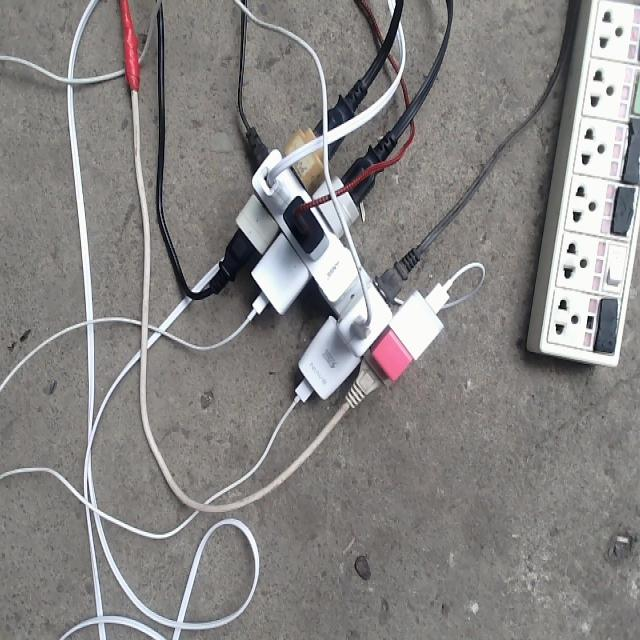-: (203, 75, 451, 416)
